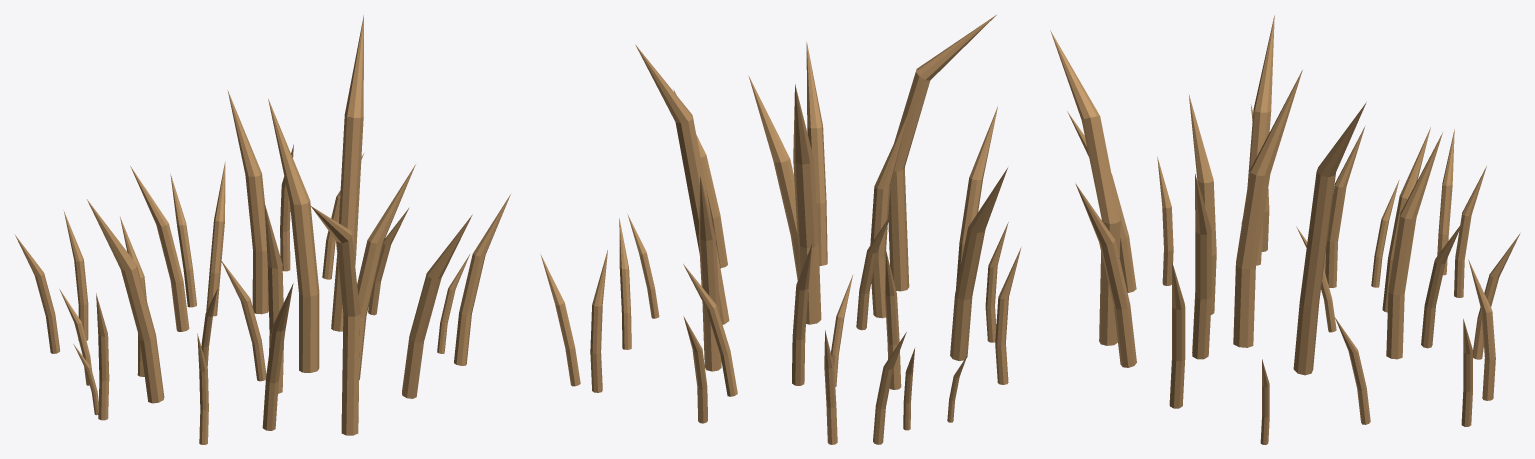
The model's file is Grass_5.fbx.
3 views of the same model, side by side, from view 1: azimuth 30°, elevation 25°; view 2: azimuth 150°, elevation 25°; view 3: azimuth 270°, elevation 25° (orthographic). The views are drawn at different scales.
Visible parts, largest first — view 1: Grass_5; view 2: Grass_5; view 3: Grass_5.
Boxes of the visible parts, <box> form: Grass_5: <box>15,15,510,444</box>; Grass_5: <box>540,15,1021,444</box>; Grass_5: <box>1050,15,1520,444</box>.
Bounding box in the file's own units: 163 × 166 × 129.
